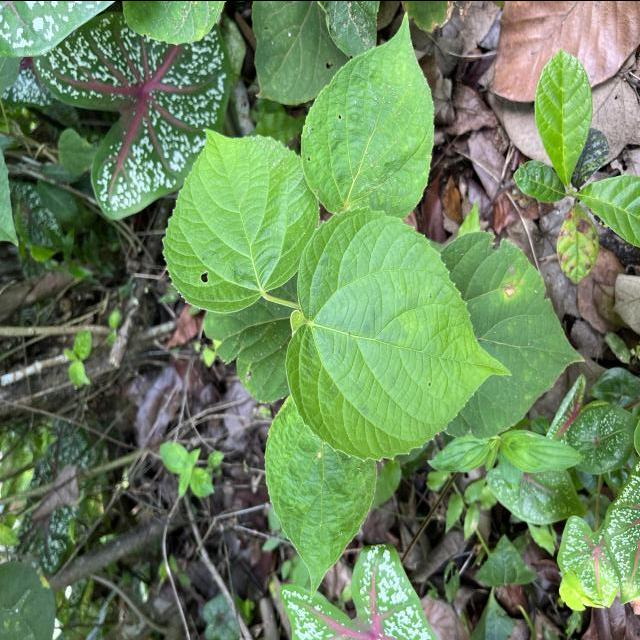Clerodendrum infortunatum: (284, 204, 513, 462), (437, 230, 587, 440), (160, 126, 322, 315), (300, 9, 435, 219), (264, 392, 378, 601)
